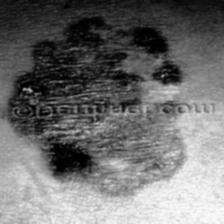Potentially Malignant Skin Tumors: (24, 29, 193, 202)
